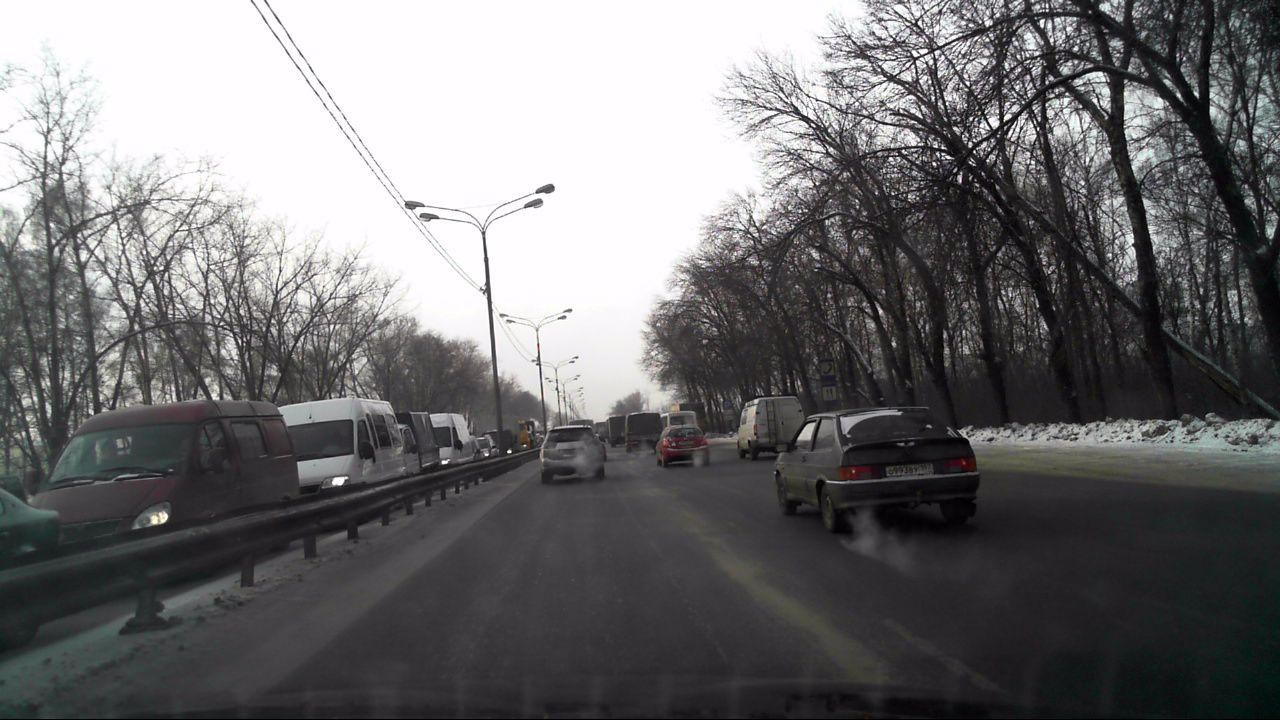7_6: (819, 359, 836, 383)
